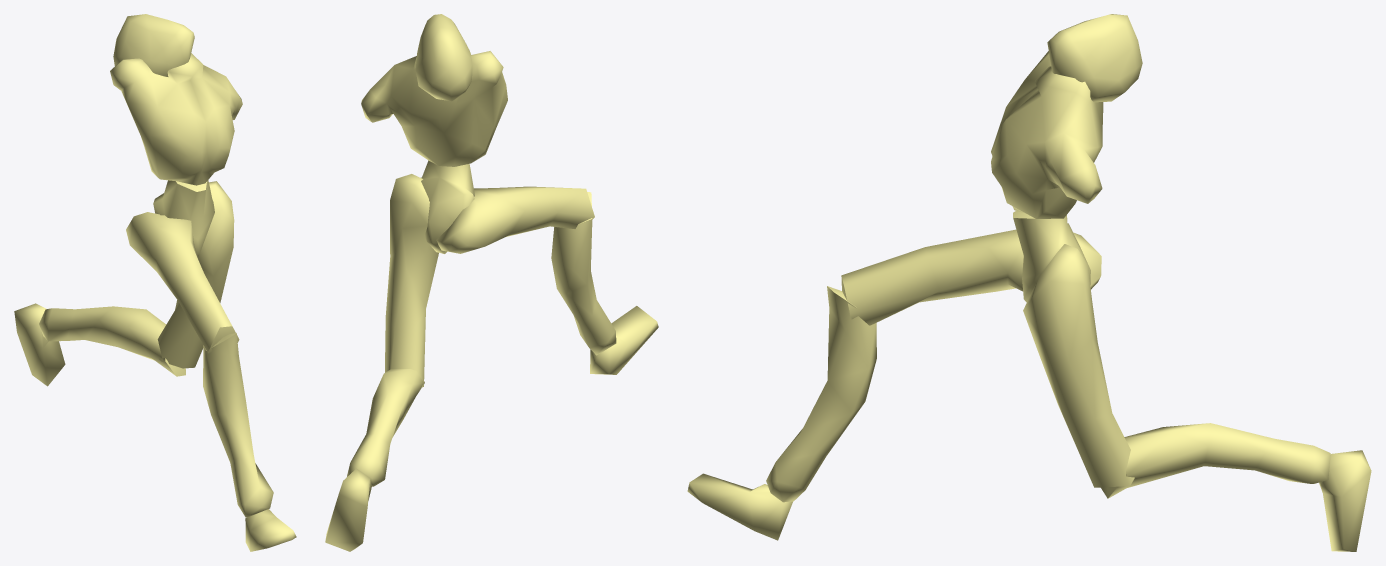
The model's file is filth26.obj.
3 views of the same model, side by side, from view 1: azimuth 30°, elevation 25°; view 2: azimuth 150°, elevation 25°; view 3: azimuth 270°, elevation 25° (orthographic). The views are drawn at different scales.
Parts seen in each view (by area): view 1: Melee_Husk; view 2: Melee_Husk; view 3: Melee_Husk.
Part boxes in pixels (x1,y1,x2,y2): Melee_Husk: (14, 14, 296, 551); Melee_Husk: (325, 14, 658, 551); Melee_Husk: (687, 14, 1371, 551).
Bounding box in the file's own units: 19.7 × 62.19 × 71.25.
